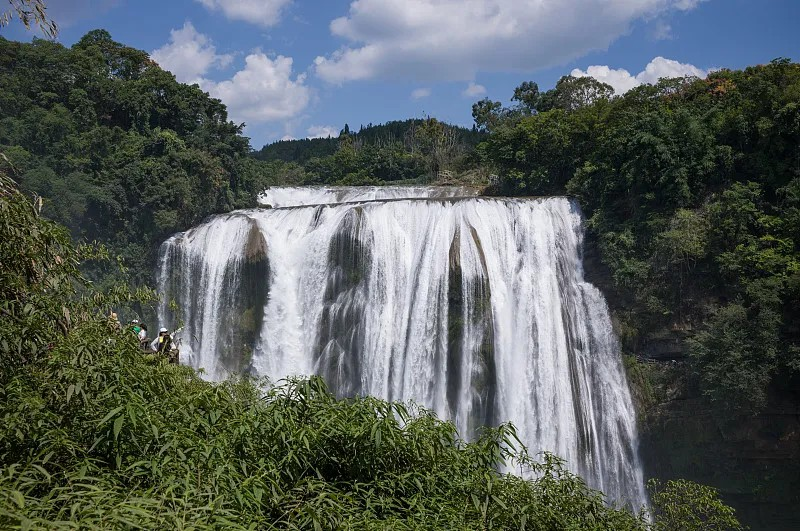Huangguoshu: (151, 187, 653, 518)
